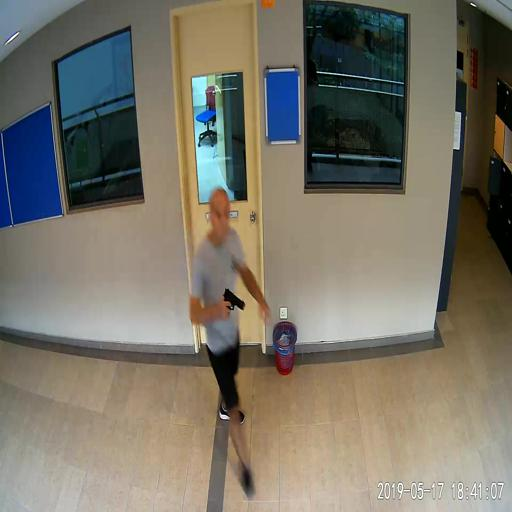pistol: (223, 288, 244, 321)
